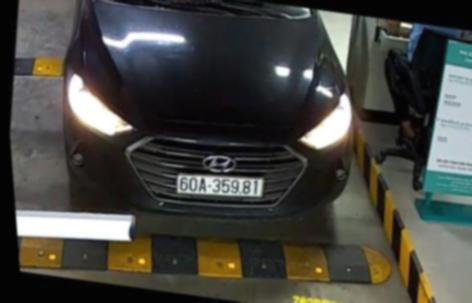License_Plate: (171, 169, 269, 207)
